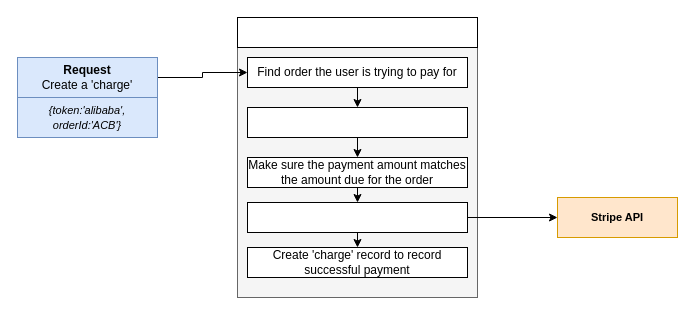
Some shapes in this 695 by 315 pixel diagram are drawn without their labels. The centre of each missing label's shape, as x and y in pixels:
"Make sure the order belongs to this user" belongs at (x=357, y=122).
"Payments Service" belongs at (x=357, y=32).
"Verify payment with Stripe API" belongs at (x=357, y=217).
